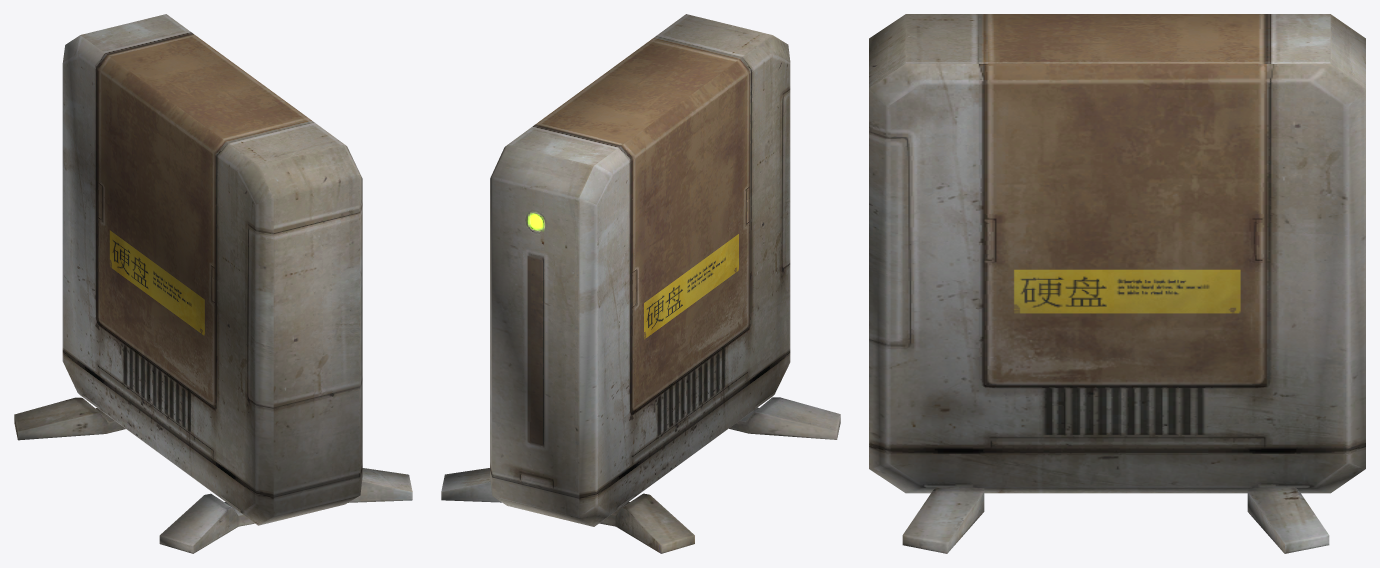
File: external_hard_drive_02.DAE
3 views of the same model, side by side, from view 1: azimuth 30°, elevation 25°; view 2: azimuth 150°, elevation 25°; view 3: azimuth 270°, elevation 25° (orthographic). The views are drawn at different scales.
Visible parts, largest first — view 1: external_hard_drive_02; view 2: external_hard_drive_02; view 3: external_hard_drive_02.
Boxes of the visible parts, x1,y1,x2,y2 form: external_hard_drive_02: (14,14,412,553); external_hard_drive_02: (441,14,840,553); external_hard_drive_02: (869,14,1365,553).
Size of the model in its own units: 0.2544 by 0.3616 by 0.3681.
